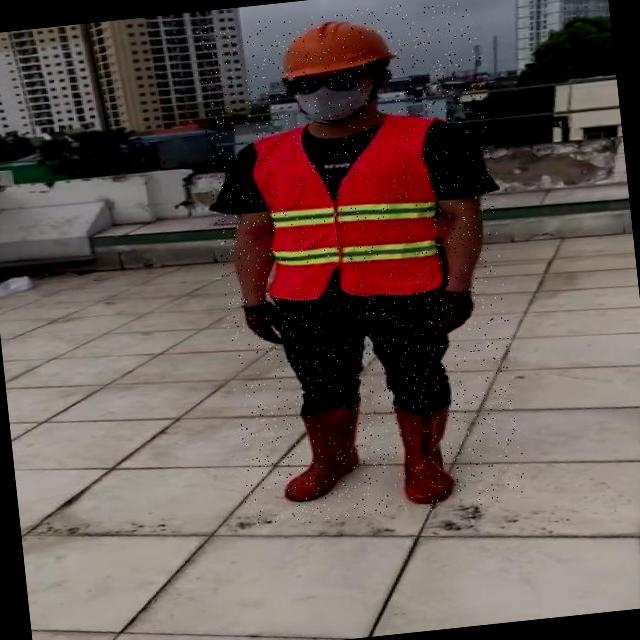boots: (276, 402, 372, 504), (392, 399, 458, 506)
gloves: (408, 279, 488, 338), (230, 288, 292, 352)
helmet: (269, 13, 392, 79)
vest: (248, 114, 450, 310)
